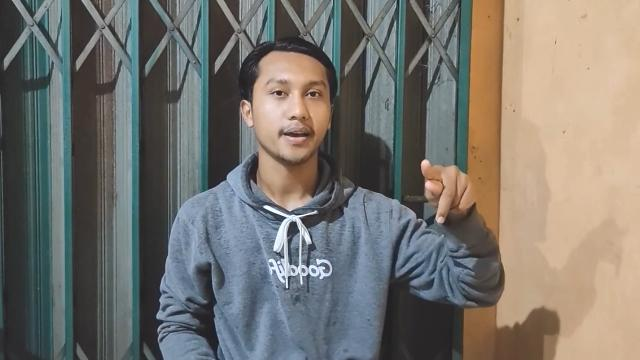P: (414, 158, 476, 226)
